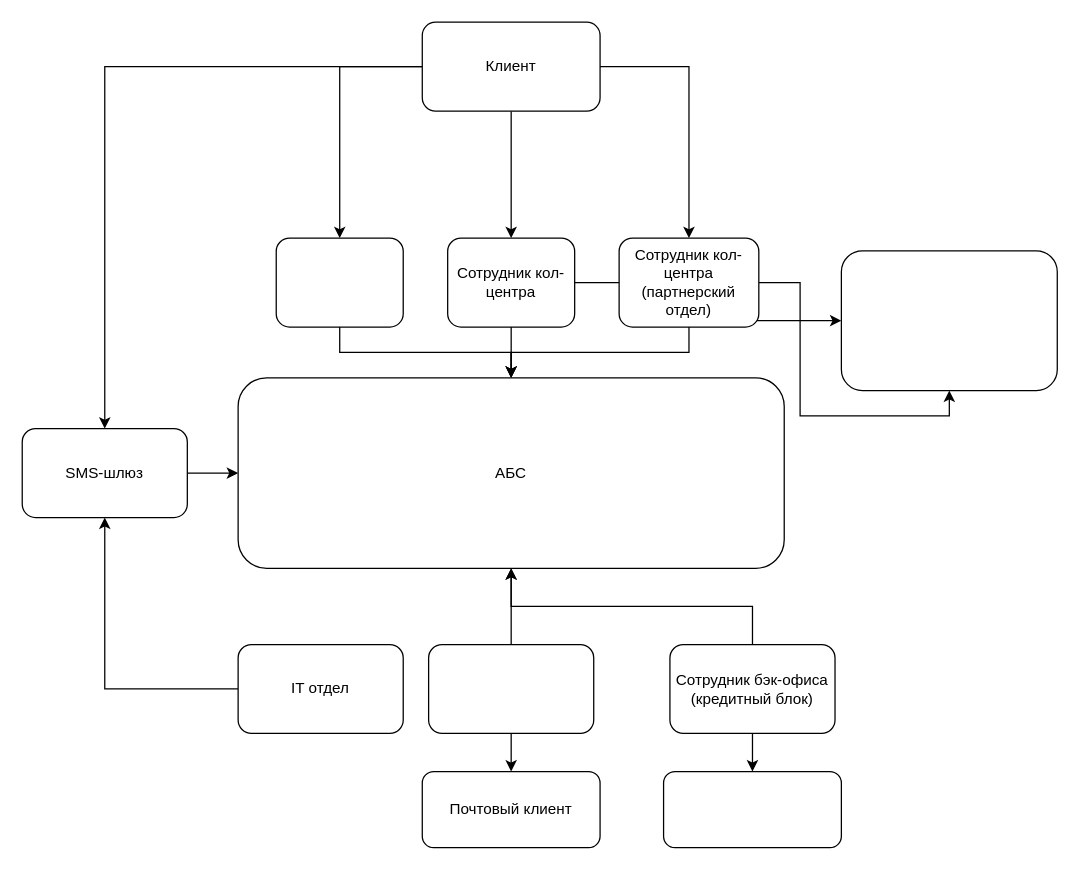
Some shapes in this 1080 by 870 pixel diagram are drawn without their labels. The shapes that lost their labels are listed below. From the top down, each one's box as (x1, y1, x2, y2) in pixels, then its label:
(275, 237, 403, 327): Сотрудник фронт-офиса
(840, 250, 1057, 391): Система кол-центра
(427, 643, 594, 733): Сотрудник бэк-офиса (депозитный блок)
(662, 770, 841, 848): Excel-файл
